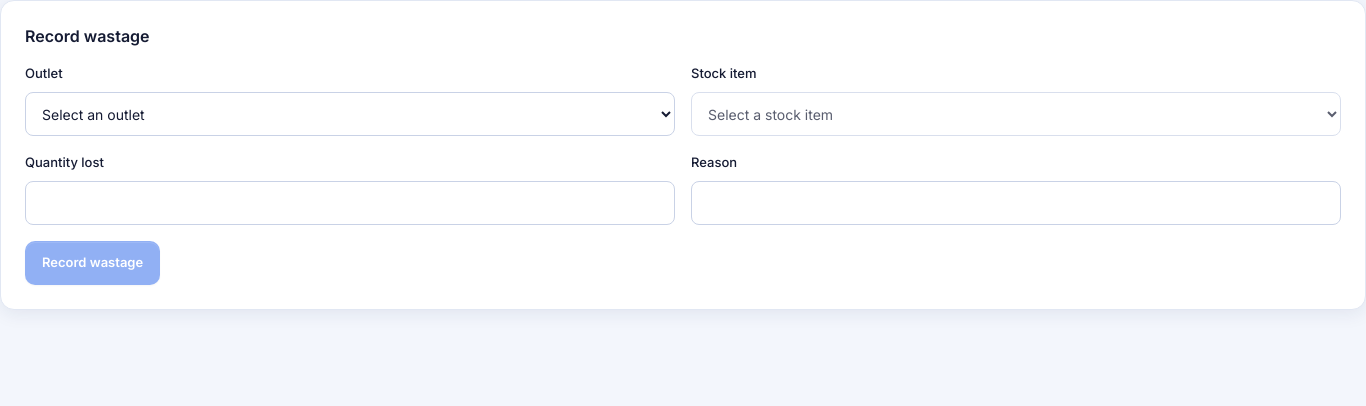
Scenario: <StockWastageTab> › shows a real backend error when wastage is rejected
Select "Main Bar" in the dropdown labelled "Outlet". click: (350, 114)
box: [25, 92, 675, 136]
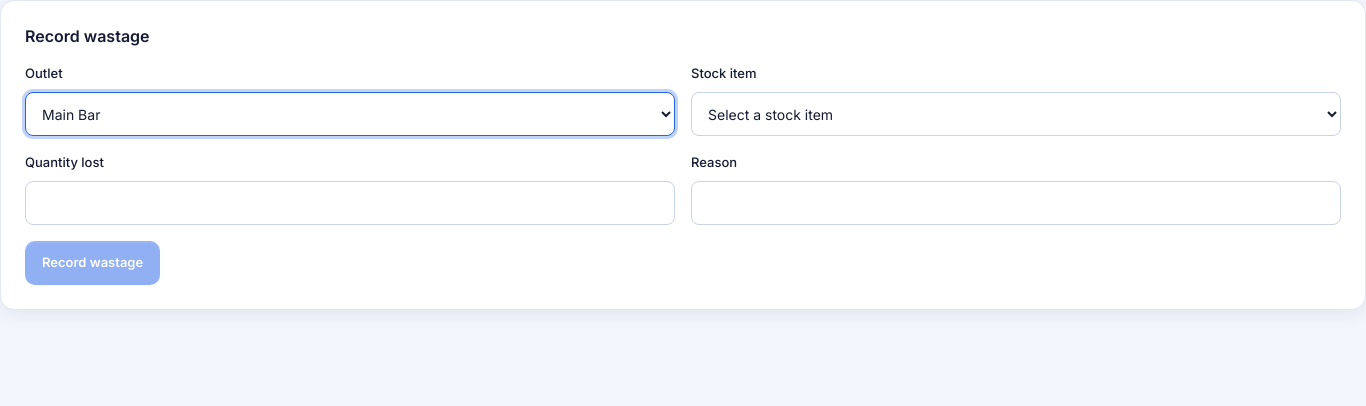
Select "Vodka (ml)" in the dropdown labelled "Stock item". click: (1016, 114)
box: [691, 92, 1341, 136]
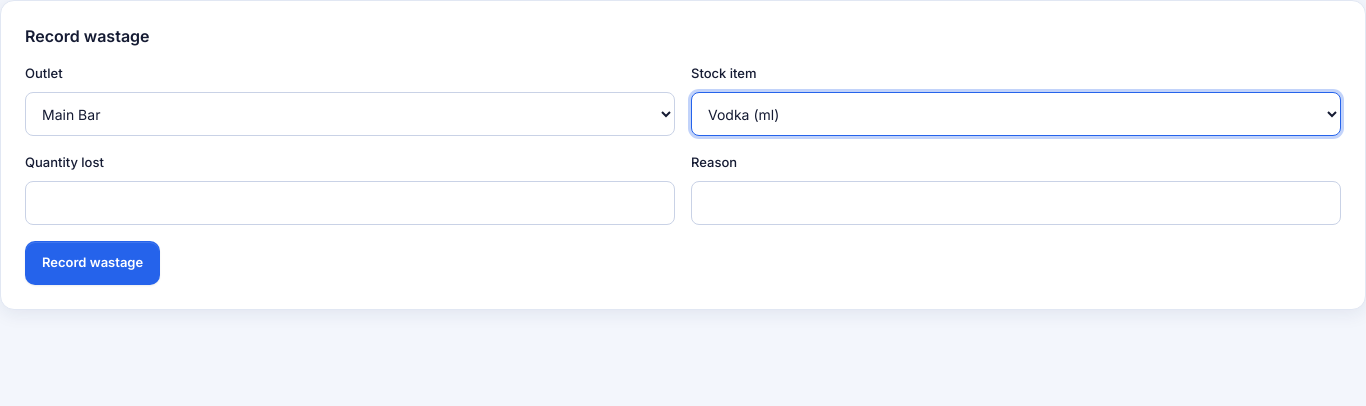
Type "2.5" into the number field labelled "Quantity lost". click: (350, 203)
box: [25, 181, 675, 225]
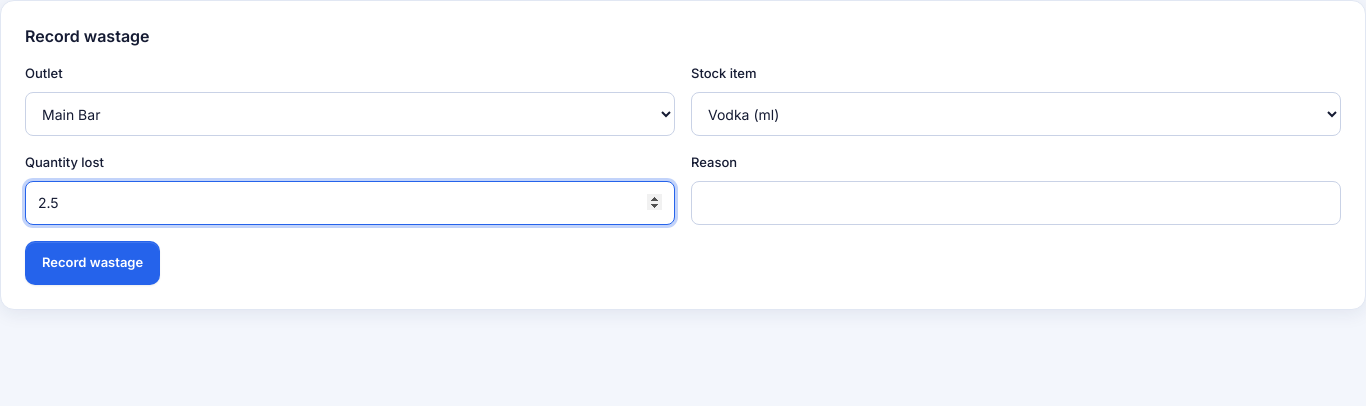
Type "Bottle dropped and broke" into the field labelled "Reason". click: (1016, 203)
box: [691, 181, 1341, 225]
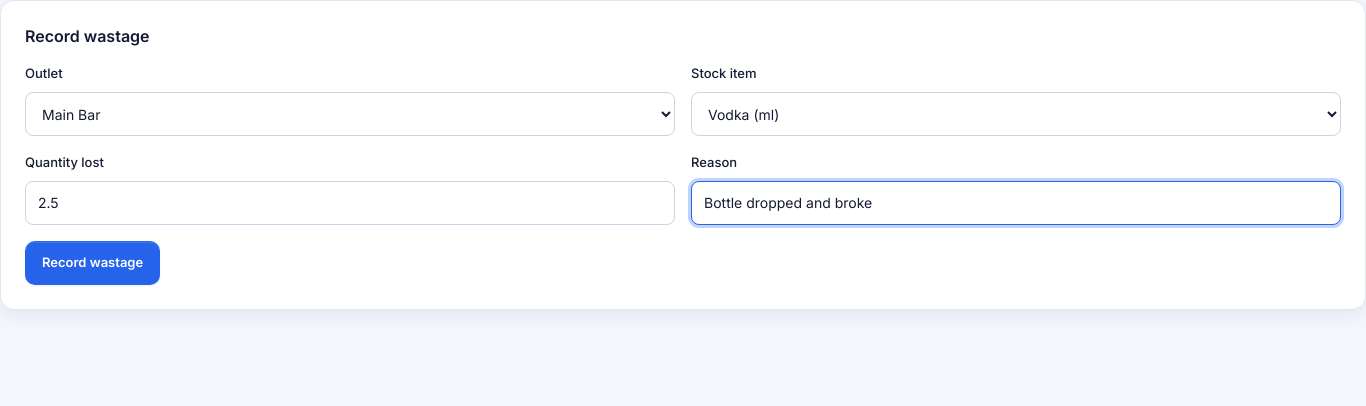
Click the button "Record wastage". click: (93, 263)
box: [25, 241, 160, 285]
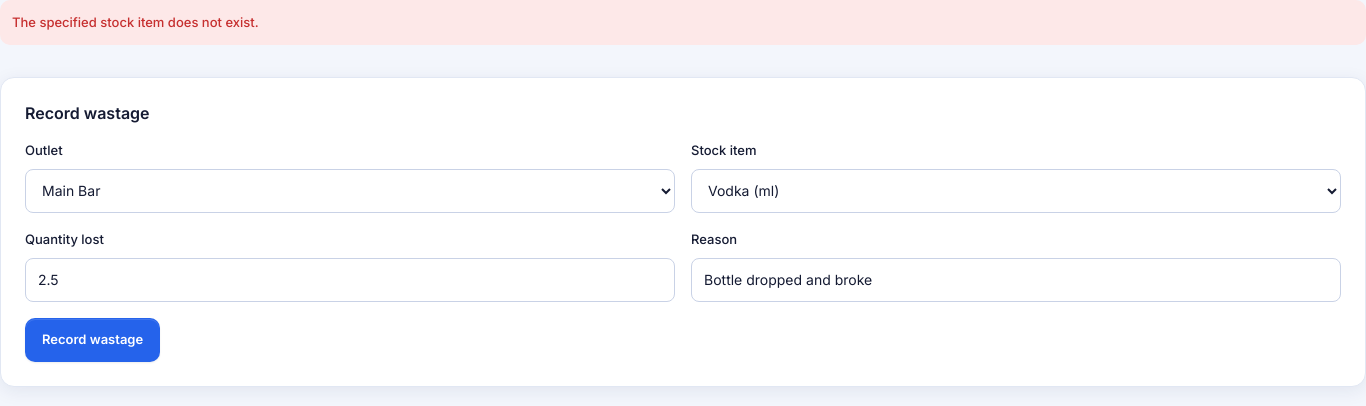
Result: the text "The specified stock item does not exist." is shown at [0, 0, 1365, 45]
